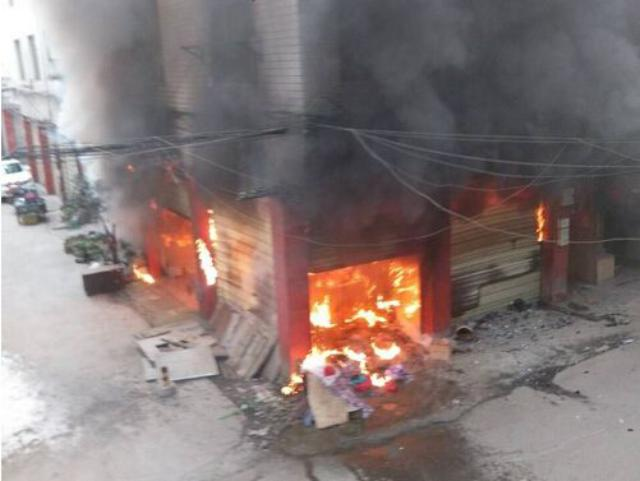fire: (309, 260, 417, 327), (194, 237, 216, 284), (302, 343, 332, 376), (371, 339, 404, 359), (533, 202, 547, 245), (334, 348, 366, 365), (130, 267, 152, 281)
